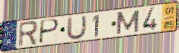1: (92, 14, 100, 38)
4: (141, 6, 159, 33)
M: (116, 9, 141, 36)
P: (38, 18, 61, 45)
R: (17, 20, 39, 48)
U: (65, 14, 88, 42)
